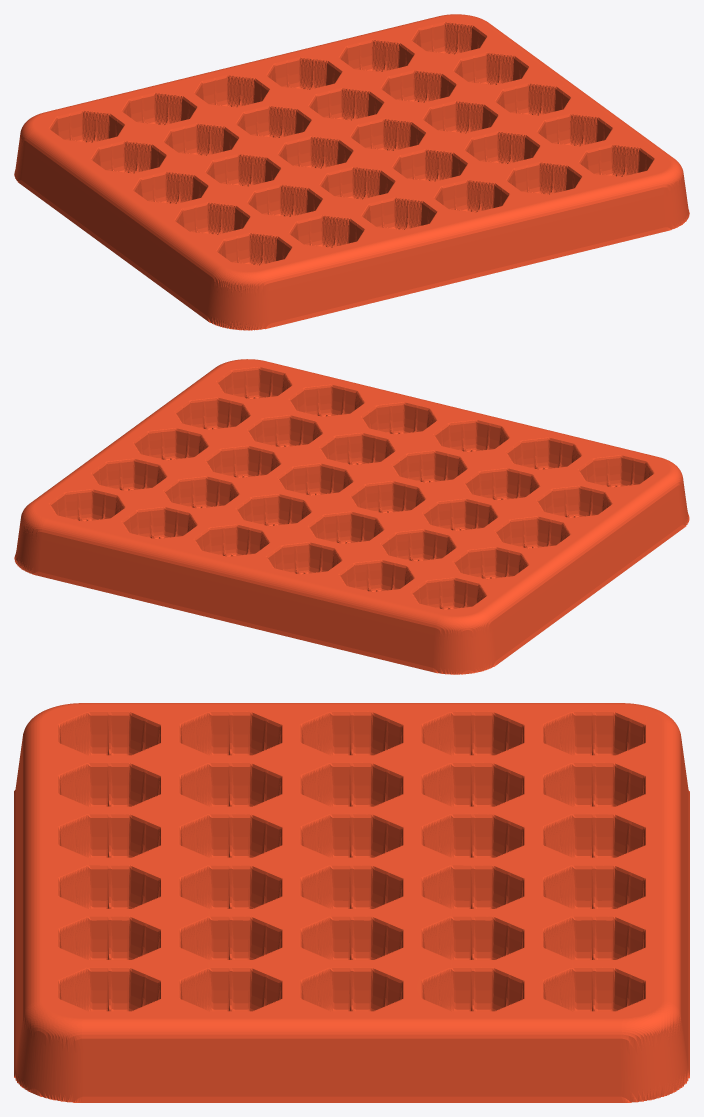
Rendered from mold.glb.
The picture shows the model from 3 angles, top to bottom: view 1: azimuth 30°, elevation 25°; view 2: azimuth 150°, elevation 25°; view 3: azimuth 270°, elevation 25°; orthographic projection. The views are drawn at different scales.
Visible parts, largest first — view 1: geometry_0; view 2: geometry_0; view 3: geometry_0.
Part boxes in pixels (<box>): geometry_0: <box>14,14,689,330</box>; geometry_0: <box>14,359,689,674</box>; geometry_0: <box>14,703,689,1102</box>.
Size of the model in its own units: 0.104 by 0.0105 by 0.0882.
